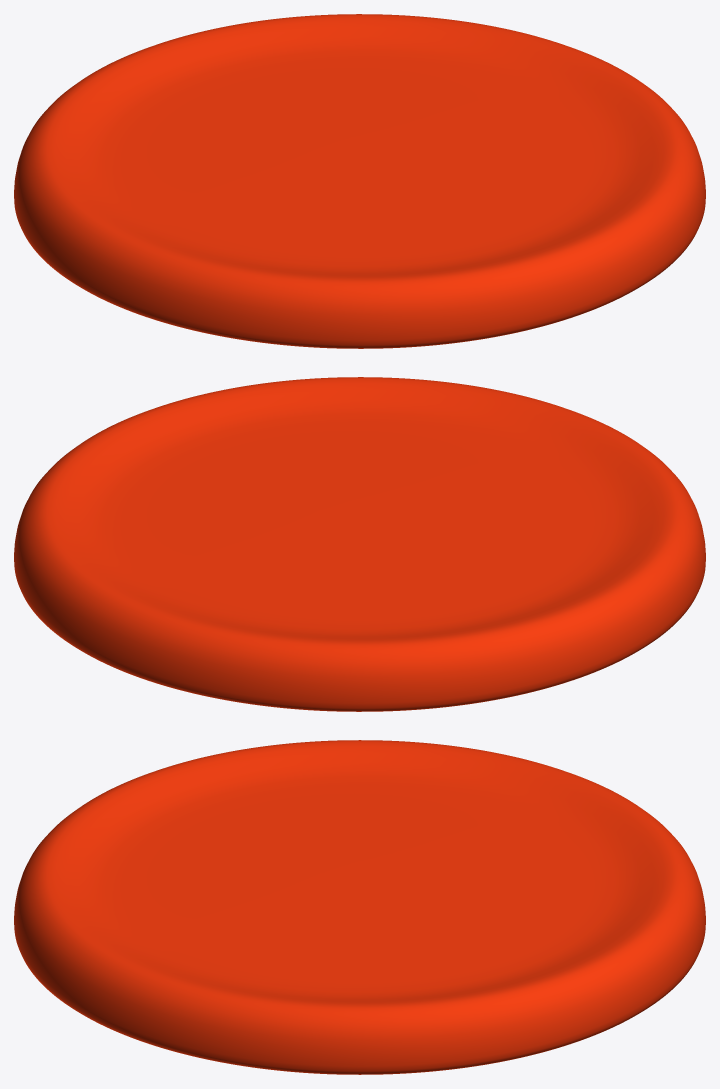
3 views of the same model, one above another, from view 1: azimuth 30°, elevation 25°; view 2: azimuth 150°, elevation 25°; view 3: azimuth 270°, elevation 25° (orthographic).
Visible parts, largest first — view 1: part_000_Integral_disc_body; view 2: part_000_Integral_disc_body; view 3: part_000_Integral_disc_body.
Boxes of the visible parts, bbox=[...] form: part_000_Integral_disc_body: bbox=[14, 14, 705, 348]; part_000_Integral_disc_body: bbox=[14, 377, 705, 711]; part_000_Integral_disc_body: bbox=[14, 740, 705, 1074].
Bounding box in the file's own units: 0.266 × 0.024 × 0.266.
